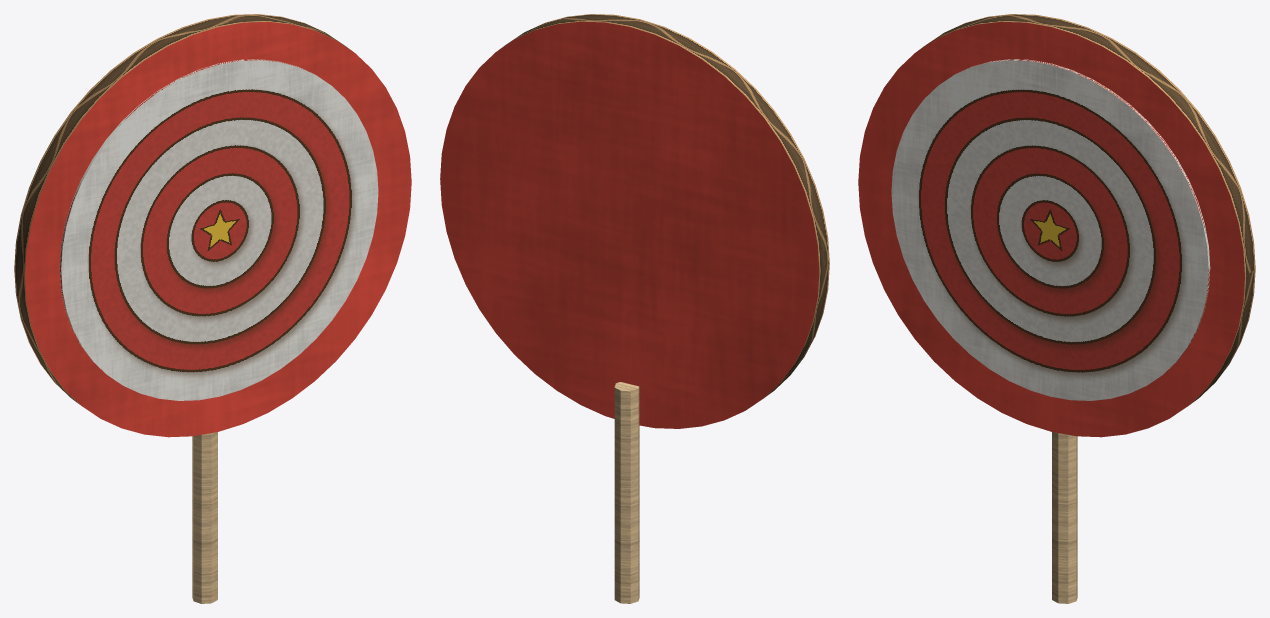
Rendered from combo_target.gltf.
3 renders of one model, left to right at view 1: azimuth 30°, elevation 25°; view 2: azimuth 150°, elevation 25°; view 3: azimuth 330°, elevation 25°, orthographic.
Visible parts, largest first — view 1: combo_target; view 2: combo_target; view 3: combo_target.
Boxes of the visible parts, bbox=[...] form: combo_target: bbox=[14, 14, 411, 603]; combo_target: bbox=[440, 14, 829, 603]; combo_target: bbox=[858, 14, 1255, 603].
Size of the model in its own units: 0.84 by 1.21 by 0.081.
Materials: 4 (4 with a texture image).
